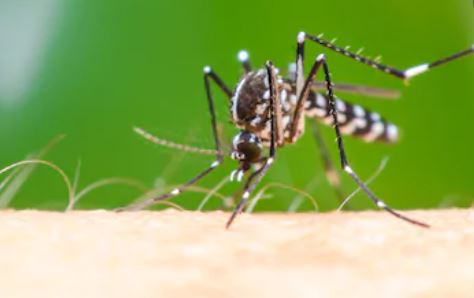dengue_mosquito: (171, 31, 430, 212)
